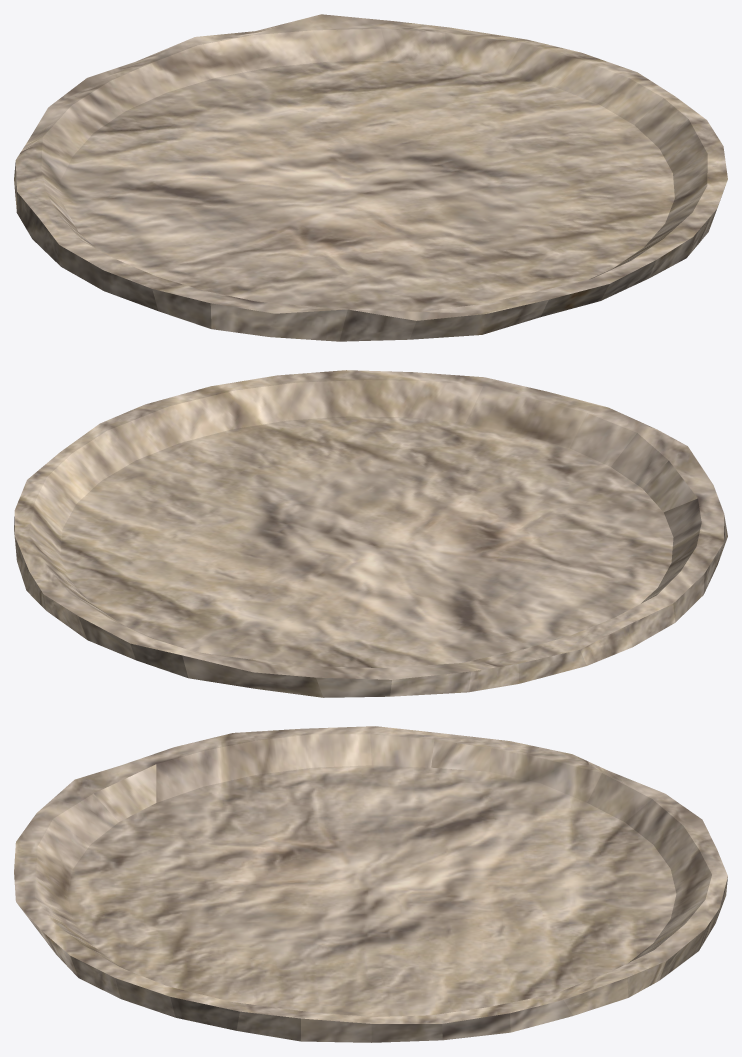
File: pizzabodem.glb
3 views of the same model, one above another, from view 1: azimuth 30°, elevation 25°; view 2: azimuth 150°, elevation 25°; view 3: azimuth 270°, elevation 25° (orthographic).
Parts seen in each view (by area): view 1: Cylinder.001; view 2: Cylinder.001; view 3: Cylinder.001.
Part boxes in pixels (bbox=[...]): Cylinder.001: bbox=[14, 14, 727, 341]; Cylinder.001: bbox=[14, 370, 727, 697]; Cylinder.001: bbox=[14, 726, 727, 1042].
Size of the model in its own units: 1.94 by 0.101 by 1.97.
Materials: 1 (1 with a texture image).
